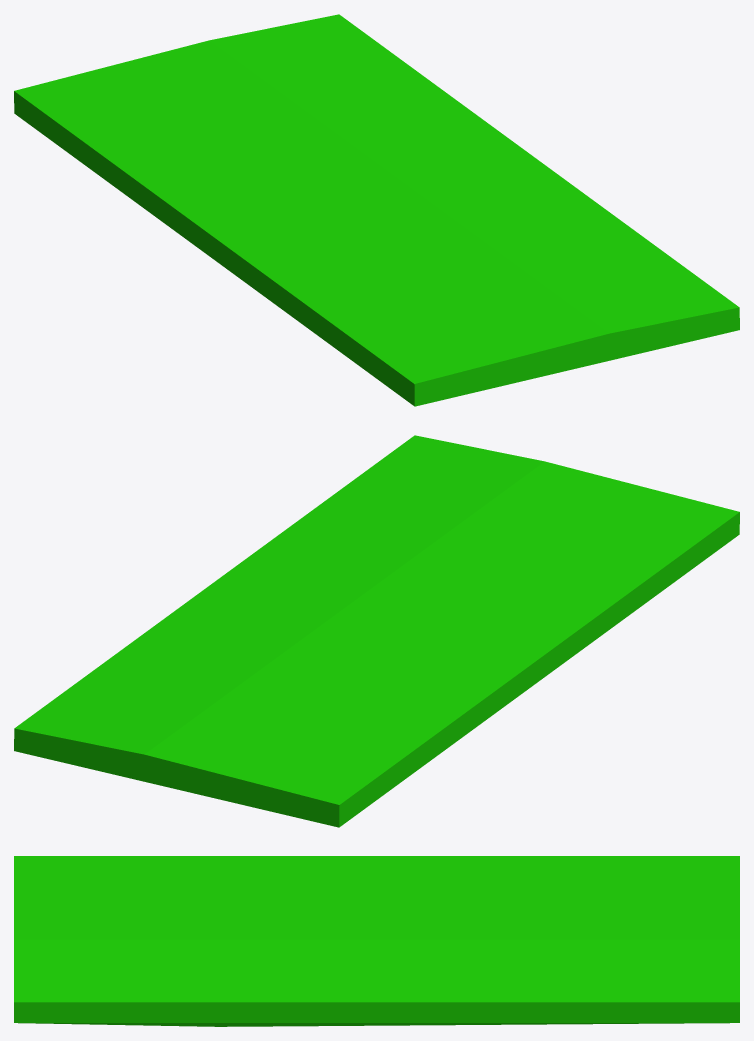
The model's file is garden_table_convex_piece_007.obj.
The picture shows the model from 3 angles, top to bottom: view 1: azimuth 30°, elevation 25°; view 2: azimuth 150°, elevation 25°; view 3: azimuth 270°, elevation 25°; orthographic projection. The views are drawn at different scales.
Size of the model in its own units: 0.2516 by 0.0298 by 0.5362.
